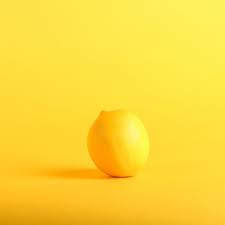lemon: (82, 104, 157, 175)
